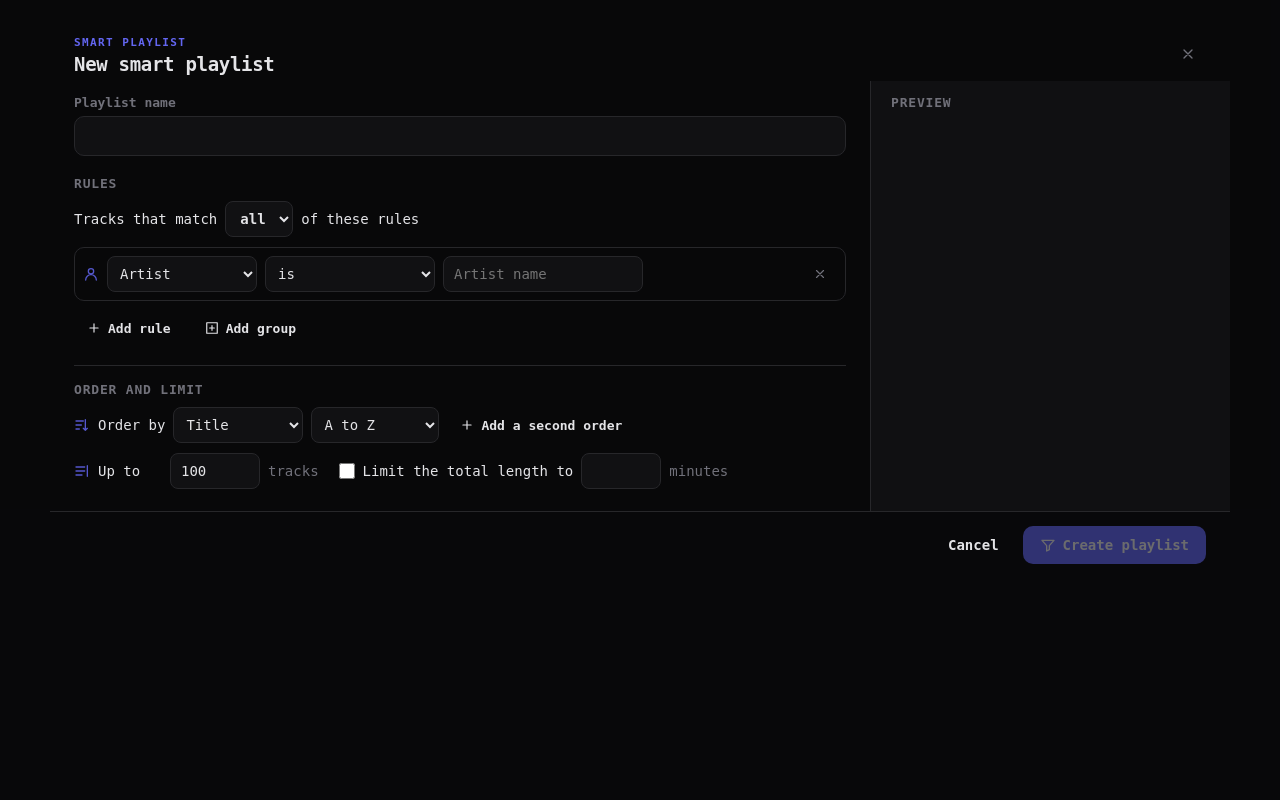
Test: SmartPlaylistEditor › refuses a name already in use
Type " road  trip " into the field labelled "Playlist name". click: [460, 136]
box: [74, 116, 846, 156]
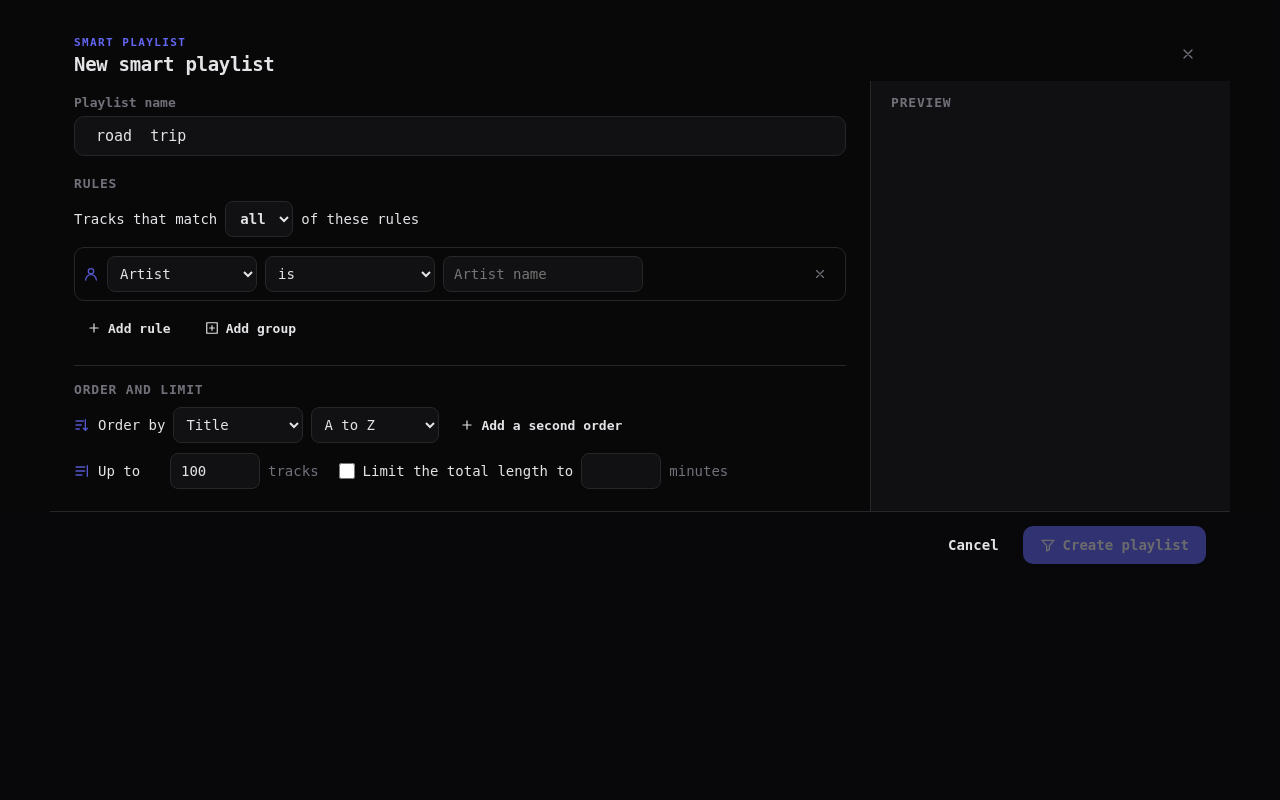
Type "Air" into the field labelled "Artist name". click: [543, 274]
box: [443, 256, 643, 292]
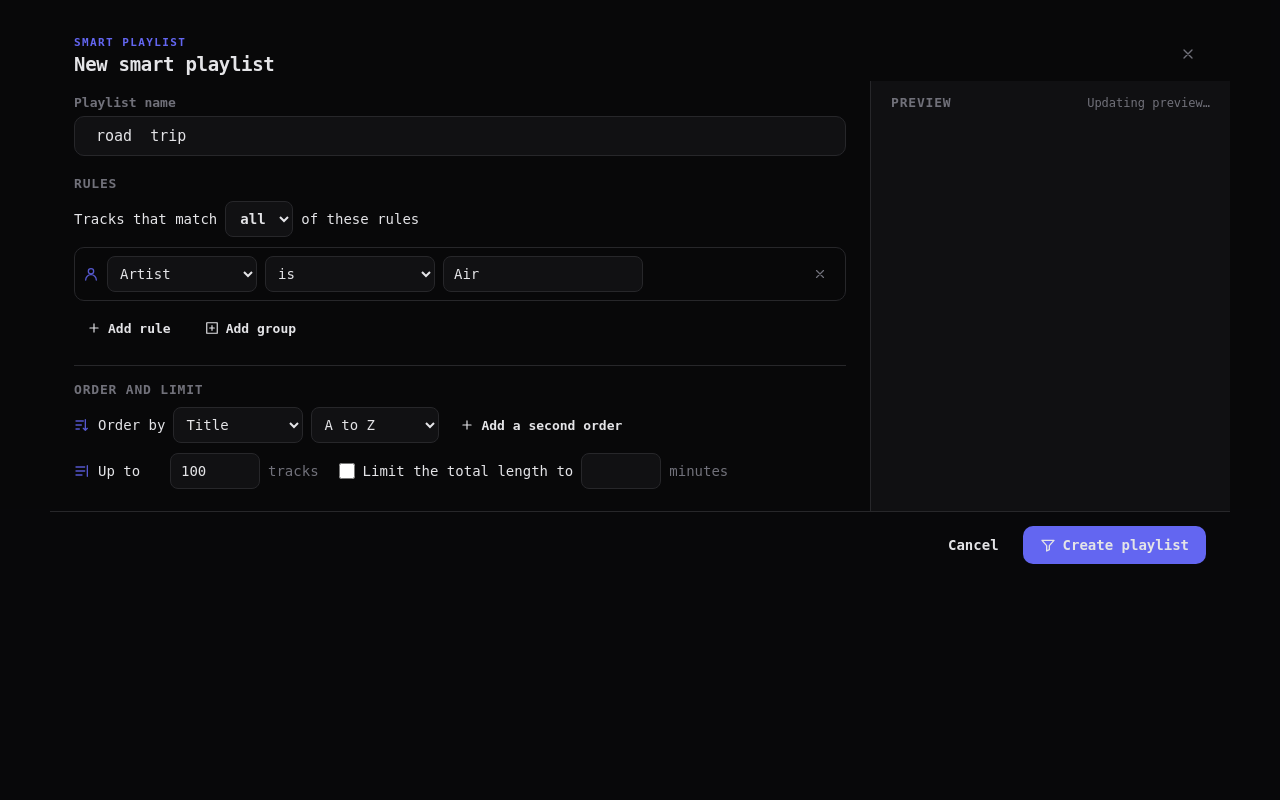
Click the button "Create playlist". click: [1114, 545]
box: [1023, 526, 1206, 564]
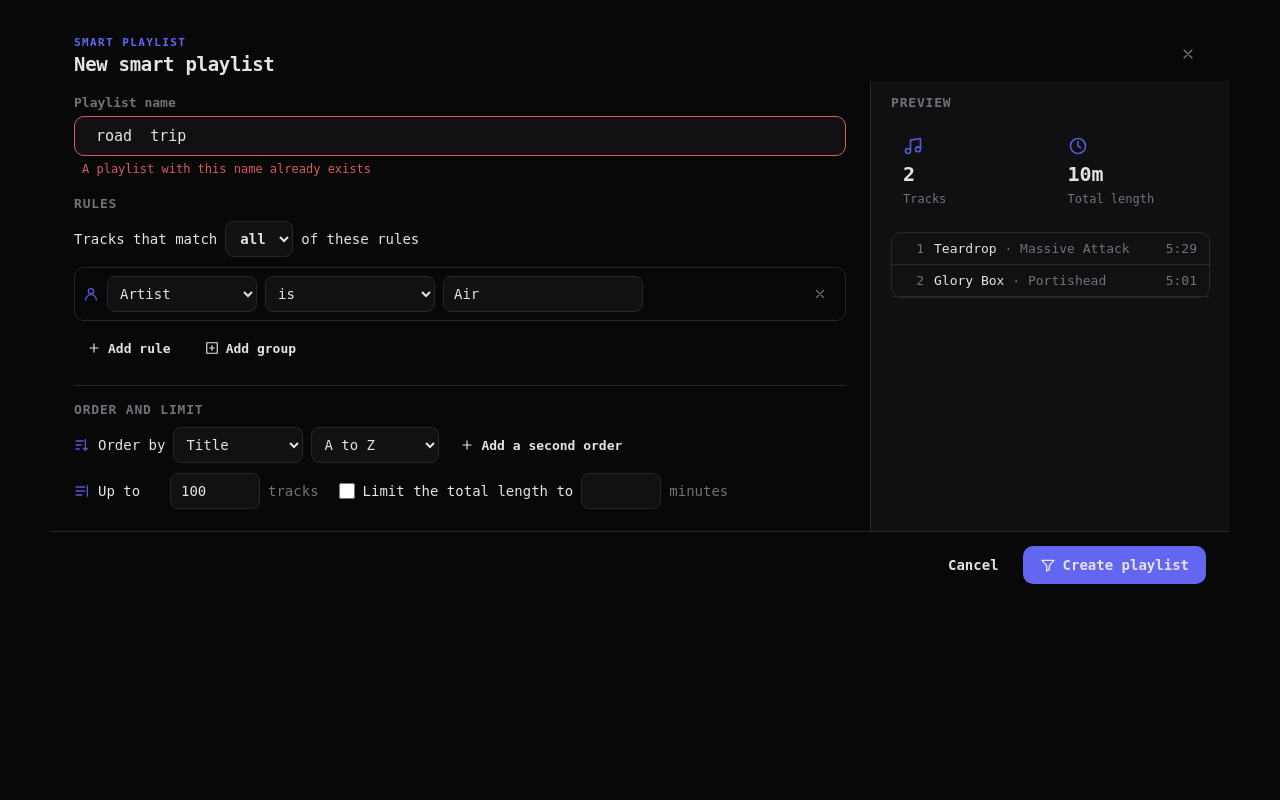
Check: the text "A playlist with this name already exists" is shown, box [82, 162, 371, 176]
